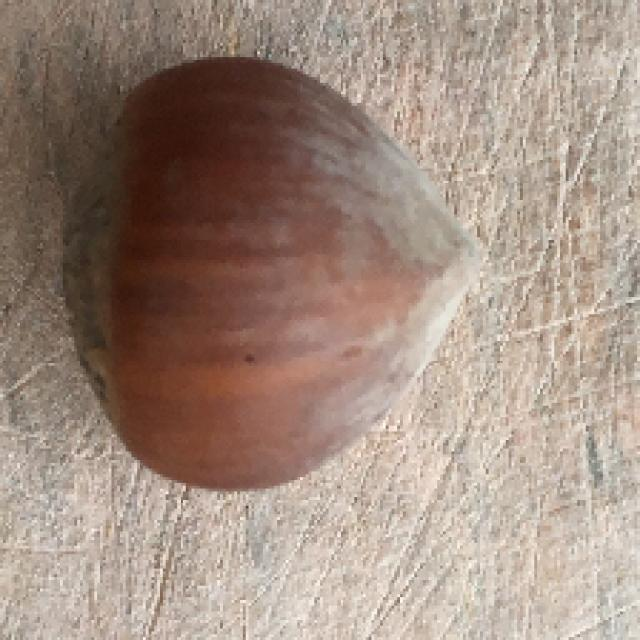DamagedHazelnut: (64, 53, 488, 492)
